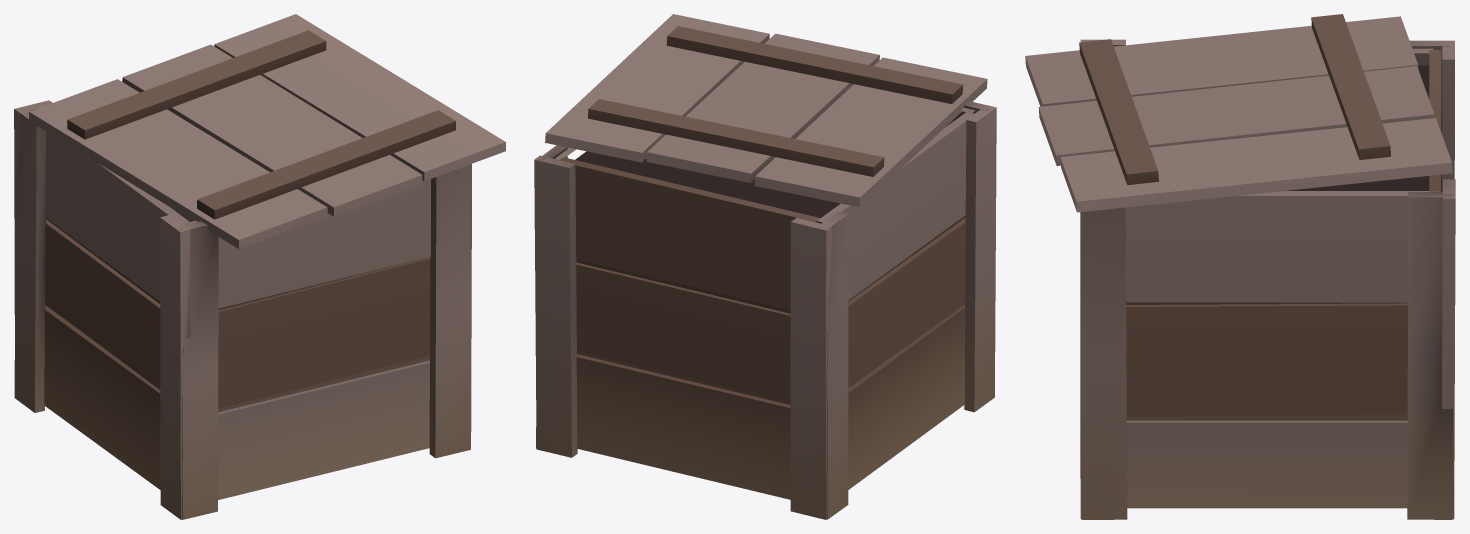
The model's file is prop_crate.glb.
3 renders of one model, left to right at view 1: azimuth 30°, elevation 25°; view 2: azimuth 150°, elevation 25°; view 3: azimuth 270°, elevation 25°, orthographic. The views are drawn at different scales.
Visible parts, largest first — view 1: prop_crate_mesh; view 2: prop_crate_mesh; view 3: prop_crate_mesh.
Boxes of the visible parts, box(x1,y1,x2,y2) form: prop_crate_mesh: box(14, 14, 505, 519); prop_crate_mesh: box(534, 14, 996, 519); prop_crate_mesh: box(1025, 14, 1455, 519).
Size of the model in its own units: 0.8 by 0.7461 by 0.8064.
